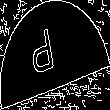P_S: (40, 26, 70, 84)
